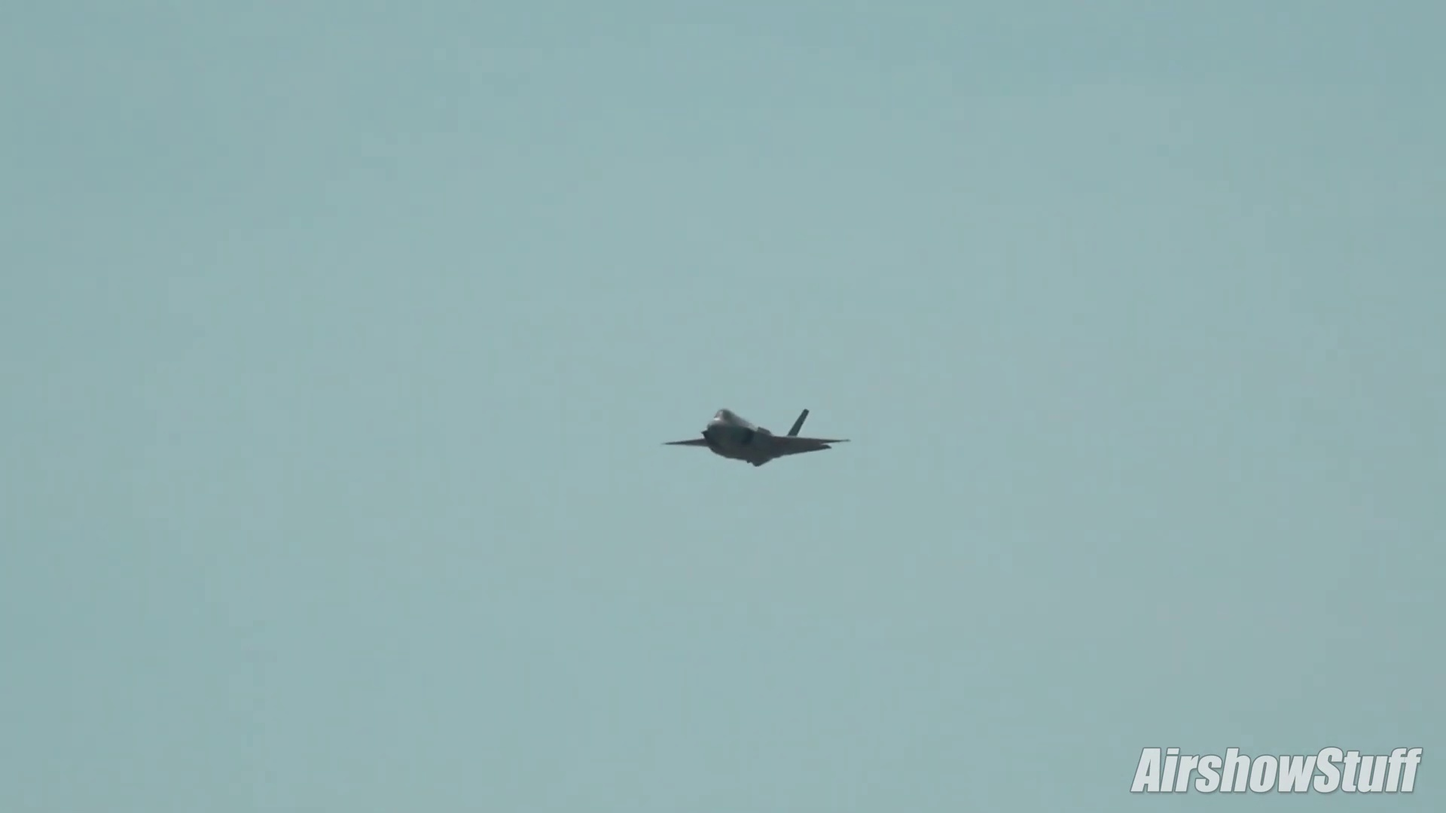F35: (661, 399, 855, 470)
